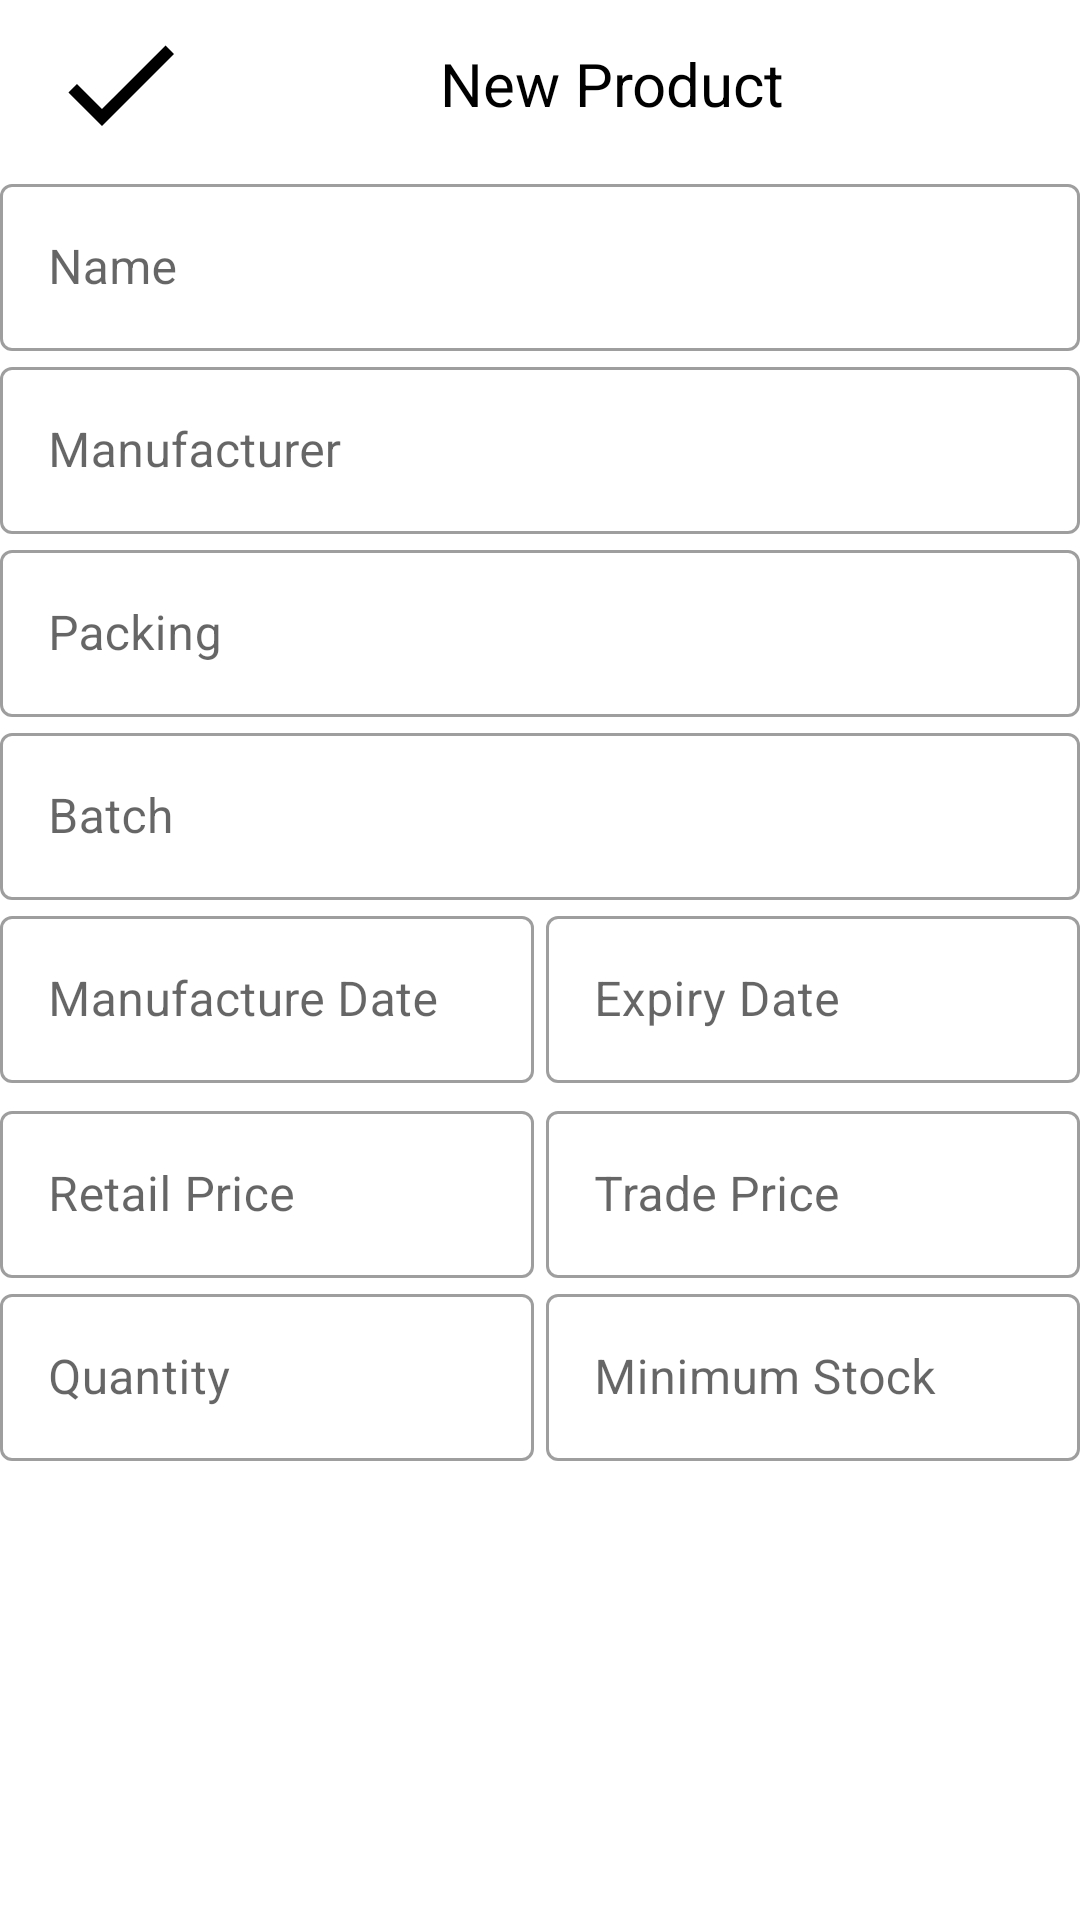

Icons on this 1080*1920 Android screen, each with its box as (x1, y1, x2, y2):
Save: (68, 45, 174, 126)
